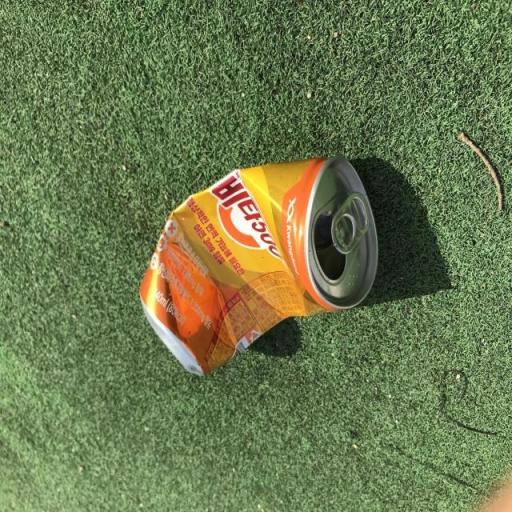metal: (110, 124, 389, 398)
